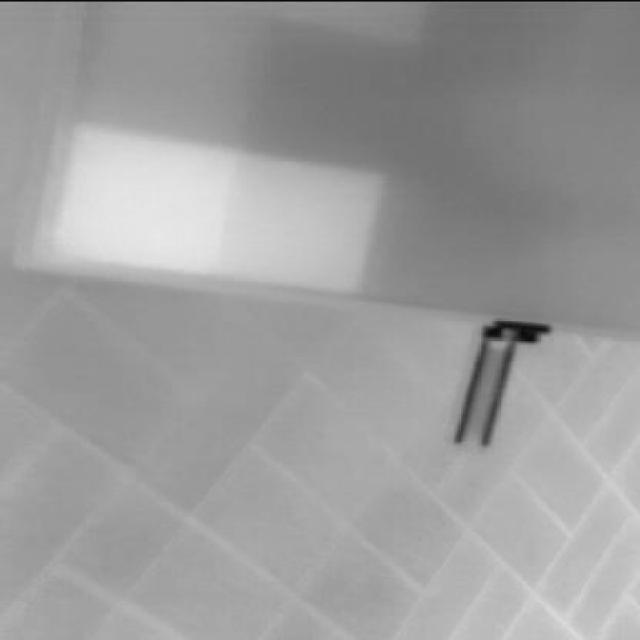hotspot: (70, 118, 382, 293)
